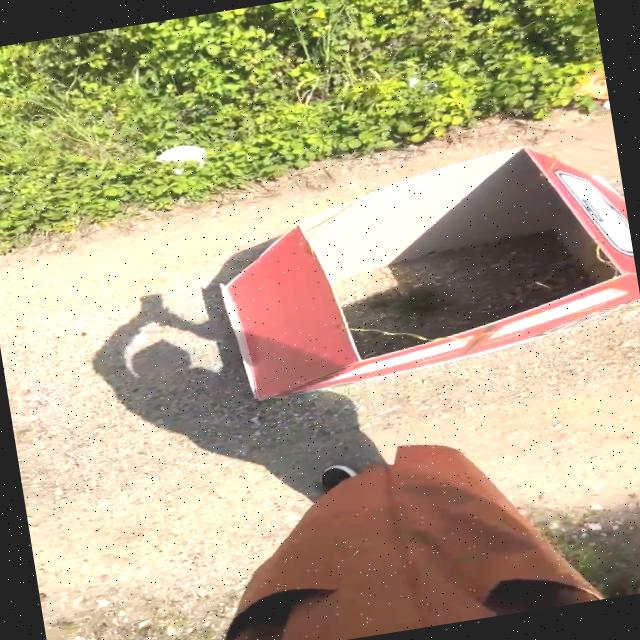red_car: (162, 115, 640, 436)
